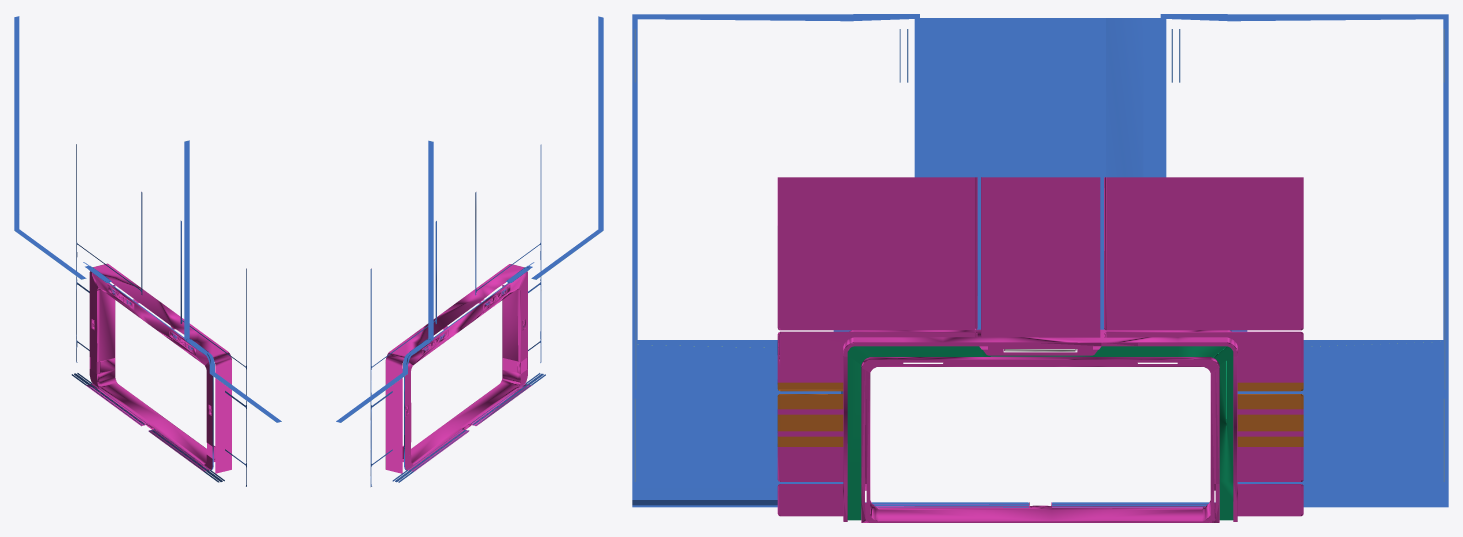
The model's file is deluxe_wall_doorframe_16x12_a.glb.
3 renders of one model, left to right at view 1: azimuth 30°, elevation 25°; view 2: azimuth 150°, elevation 25°; view 3: azimuth 270°, elevation 25°, orthographic. The views are drawn at different scales.
Bounding box in the file's own units: 1.35 × 15.92 × 24.
